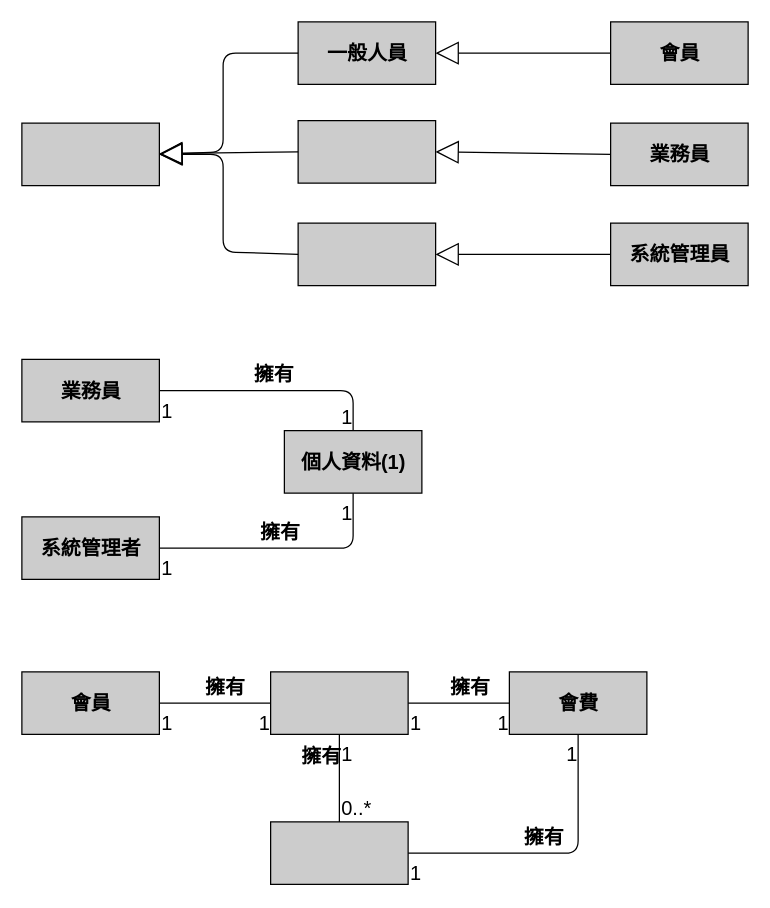
Some shapes in this 770 by 908 pixel diagram are drawn without their labels. The centre of each missing label's shape, as x and y in pixels:
"人員" goes at (x=90, y=154).
"付費明細" goes at (x=338, y=852).
"個人資料(2)" goes at (x=338, y=702).
"工作人員" goes at (x=366, y=151).
"系統人員" goes at (x=366, y=254).
